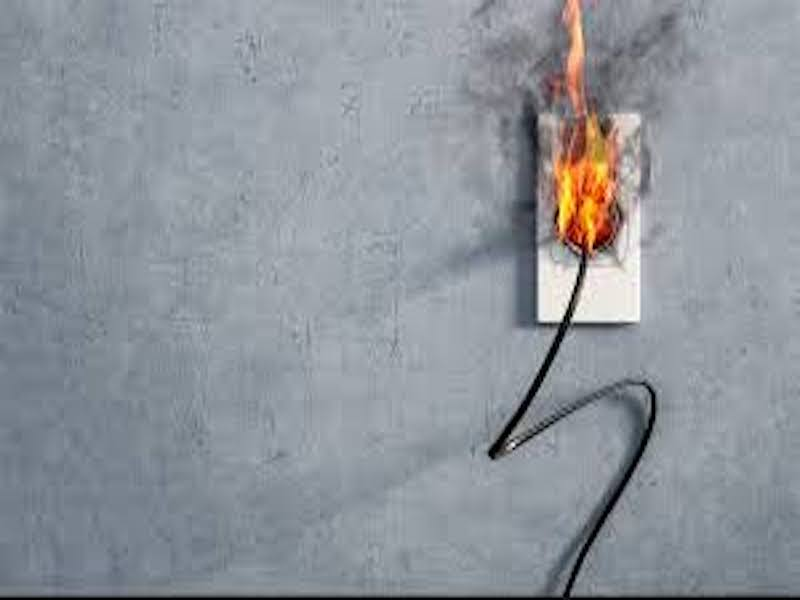combustible substance: (534, 2, 655, 259)
